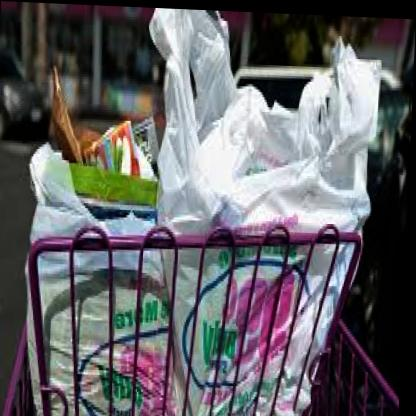Plastic: (1, 25, 398, 412)
